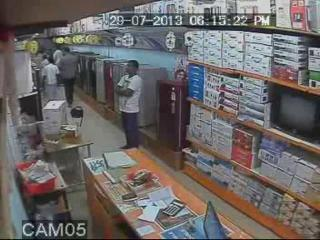Normal: (269, 88, 320, 146), (115, 60, 144, 150), (56, 47, 80, 107), (42, 56, 60, 102)
